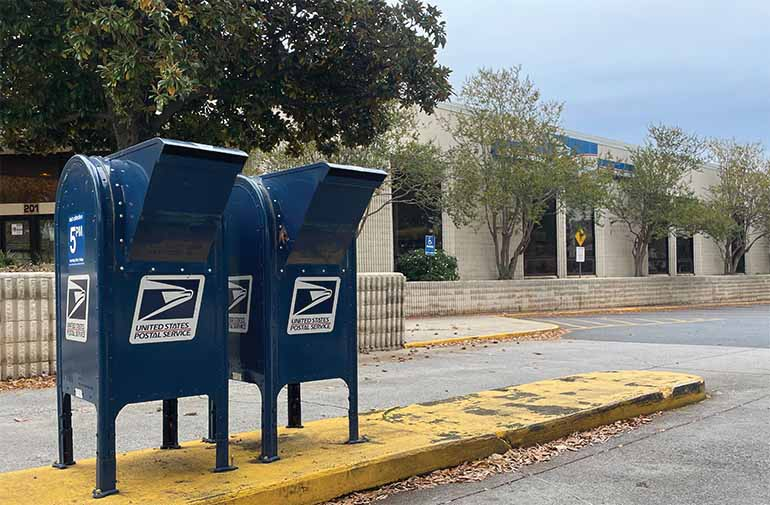Tree: (431, 62, 587, 280), (584, 121, 719, 274), (686, 135, 770, 268)
